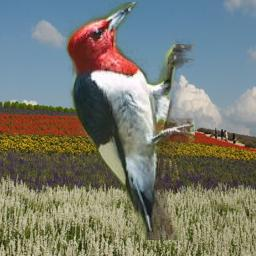Woodpecker: (65, 2, 195, 240)
